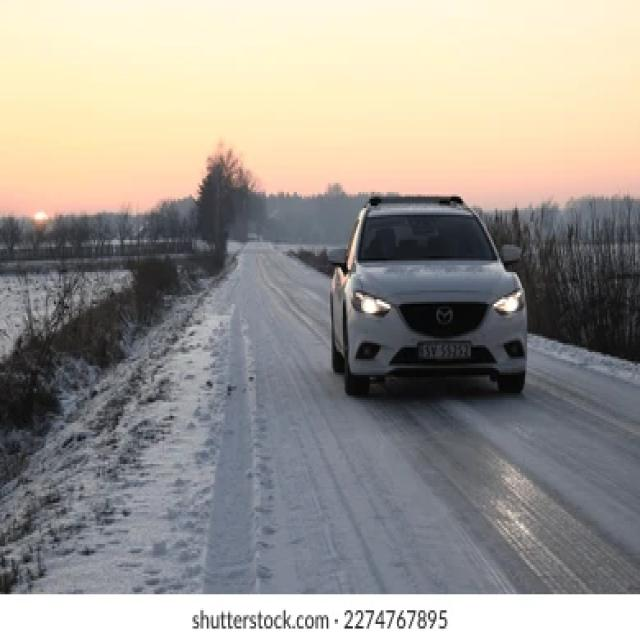mazda: (436, 308, 459, 324)
